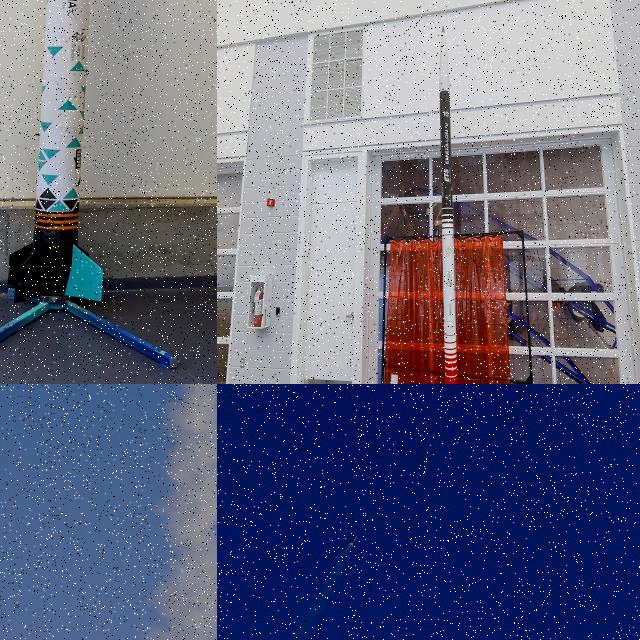Rocket: (8, 0, 103, 304), (439, 25, 458, 384), (345, 533, 358, 547)
